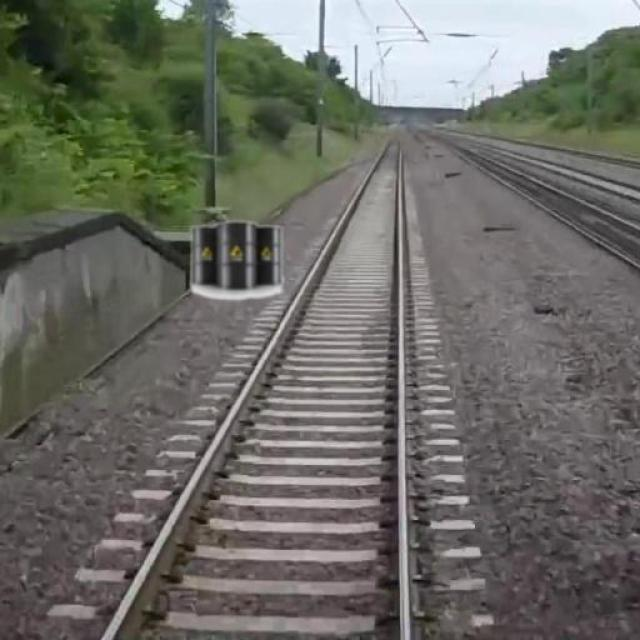Other_objects: (190, 216, 300, 310)
